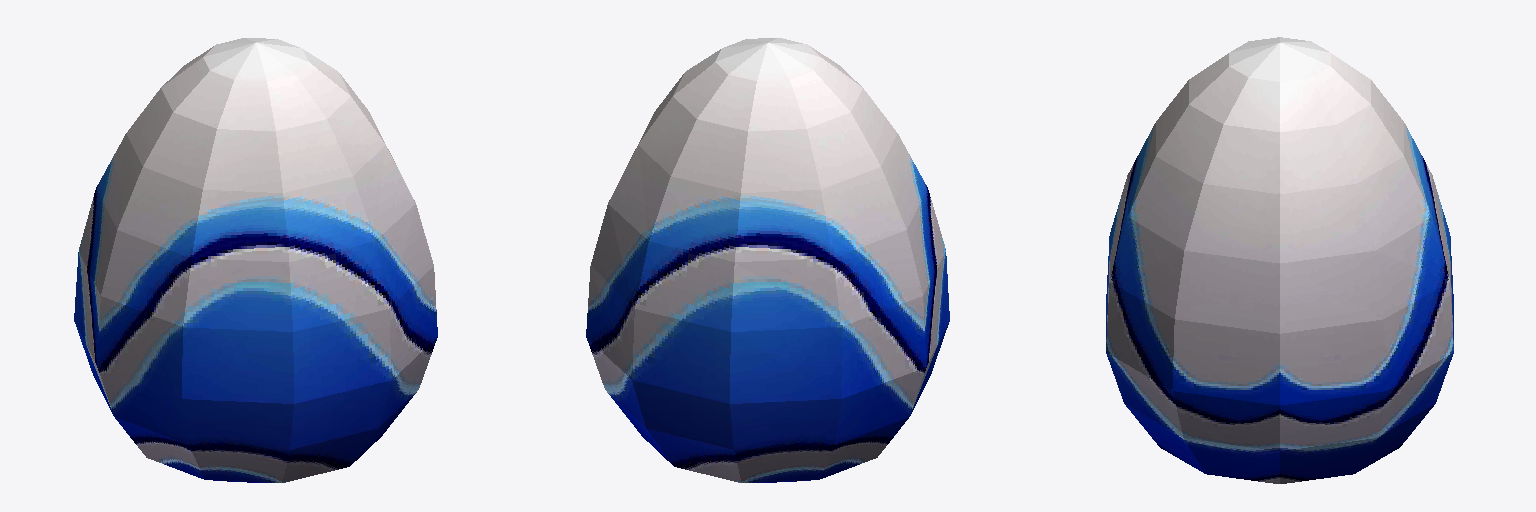
3 views of the same model, side by side, from view 1: azimuth 30°, elevation 25°; view 2: azimuth 150°, elevation 25°; view 3: azimuth 270°, elevation 25° (orthographic).
Parts seen in each view (by area): view 1: drg_egg_fixed_0; view 2: drg_egg_fixed_0; view 3: drg_egg_fixed_0.
Boxes of the visible parts, box(x1,y1,x2,y2) form: drg_egg_fixed_0: box(74, 38, 437, 482); drg_egg_fixed_0: box(586, 38, 949, 482); drg_egg_fixed_0: box(1106, 37, 1453, 483).
Size of the model in its own units: 0.9334 by 1.2 by 0.8877.
Materials: 1 (1 with a texture image).